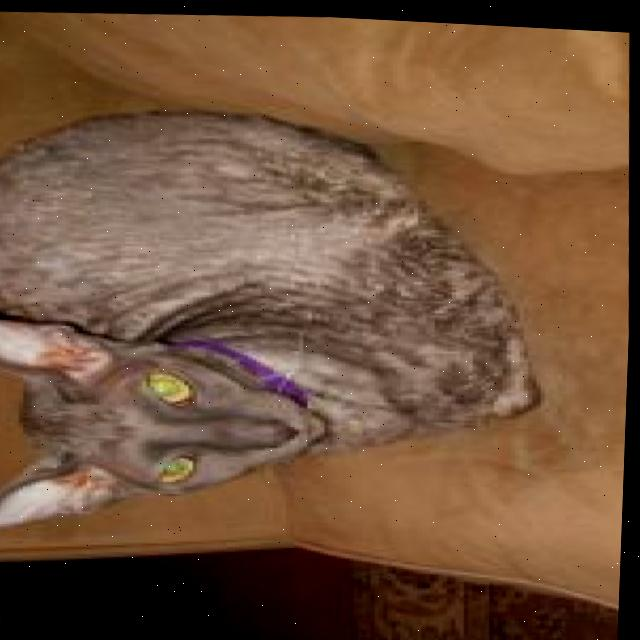Cornish Rex: (0, 81, 573, 558)
